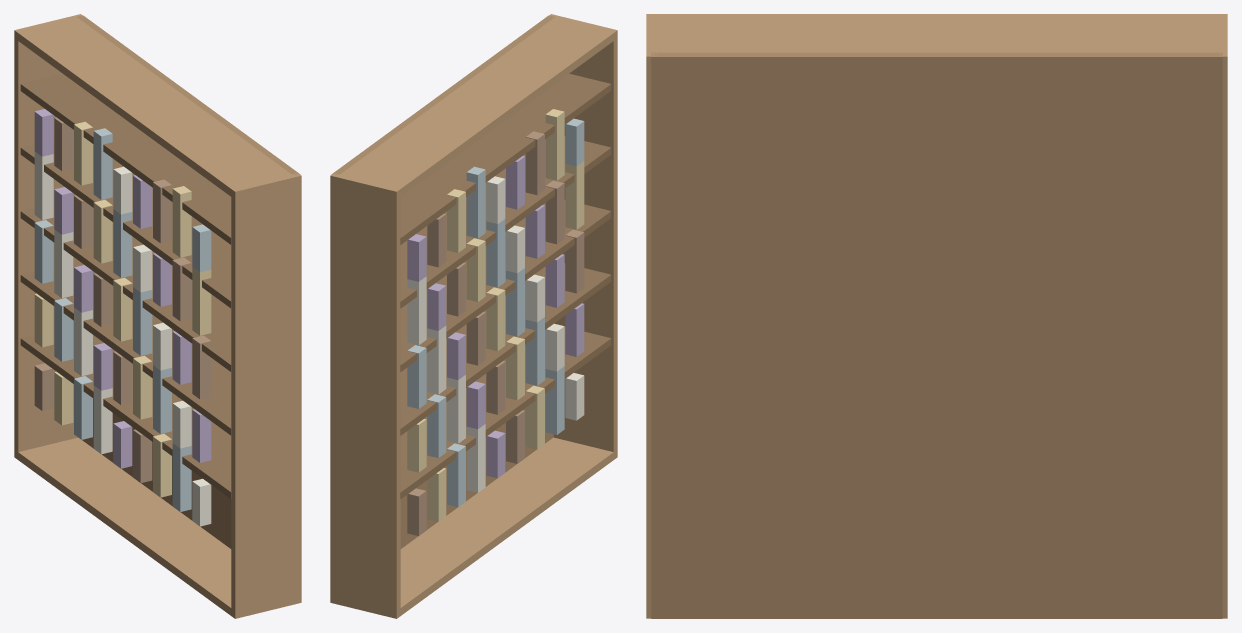
File: bookcase_2000x350.glb
3 views of the same model, side by side, from view 1: azimuth 30°, elevation 25°; view 2: azimuth 150°, elevation 25°; view 3: azimuth 270°, elevation 25° (orthographic). The views are drawn at different scales.
Visible parts, largest first — view 1: book_spine (×45), right_side, shelf_board (×5), top_cap, bottom_cap, left_side, back_panel; view 2: book_spine (×45), left_side, shelf_board (×5), top_cap, bottom_cap, right_side, back_panel; view 3: back_panel, top_cap, right_side, left_side.
Boxes of the visible parts, <box> form: book_spine (×45): <box>34,109,211,526</box>; right_side: <box>231,173,301,618</box>; shelf_board (×5): <box>20,73,231,498</box>; top_cap: <box>15,18,290,198</box>; bottom_cap: <box>16,437,234,617</box>; left_side: <box>14,14,83,459</box>; back_panel: <box>77,15,300,548</box>; book_spine (×45): <box>407,109,584,535</box>; left_side: <box>330,173,400,618</box>; shelf_board (×5): <box>400,73,611,498</box>; top_cap: <box>341,18,614,197</box>; bottom_cap: <box>400,437,615,615</box>; right_side: <box>548,14,617,459</box>; back_panel: <box>331,15,554,548</box>; back_panel: <box>651,52,1222,618</box>; top_cap: <box>649,14,1225,66</box>; right_side: <box>646,14,656,618</box>; left_side: <box>1217,14,1227,618</box>.
Bounding box in the file's own units: 0.3575 × 2.15 × 2.02.
